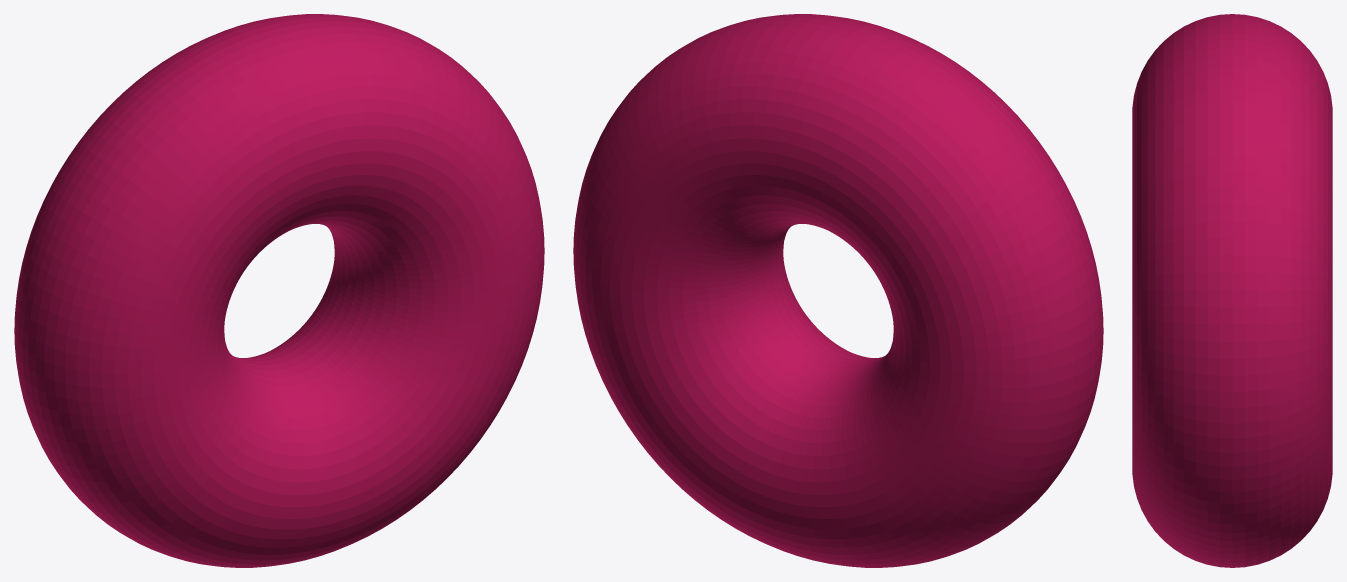
3 renders of one model, left to right at view 1: azimuth 30°, elevation 25°; view 2: azimuth 150°, elevation 25°; view 3: azimuth 270°, elevation 25°, orthographic. The views are drawn at different scales.
Parts seen in each view (by area): view 1: world; view 2: world; view 3: world.
Part boxes in pixels (x1,y1,x2,y2): world: (14, 14, 544, 567); world: (573, 14, 1103, 567); world: (1132, 14, 1332, 567).
Size of the model in its own units: 26.13 by 26.13 by 9.45.
